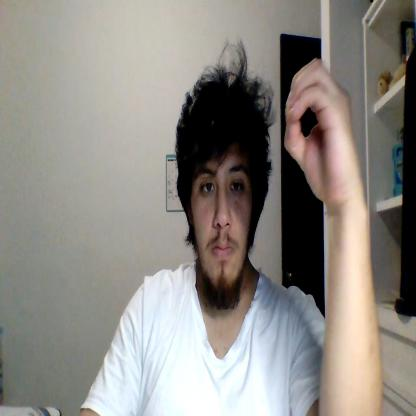O: (284, 57, 360, 203)
